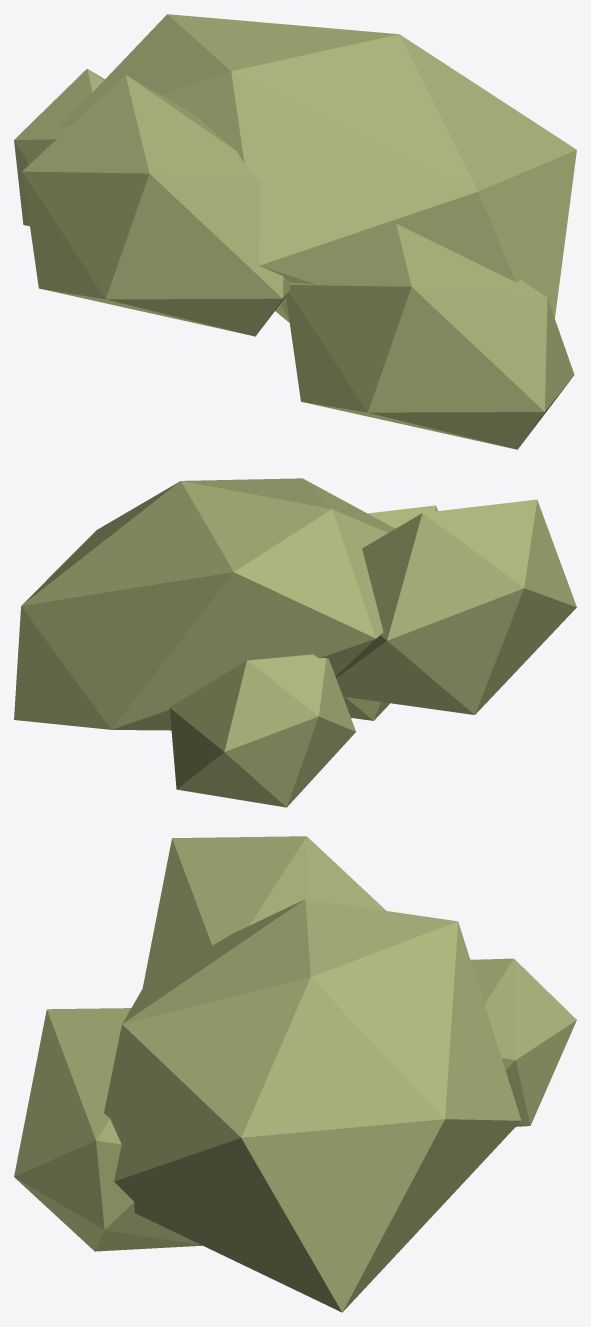
Rendered from Bush_1.fbx.
3 renders of one model, top to bottom at view 1: azimuth 30°, elevation 25°; view 2: azimuth 150°, elevation 25°; view 3: azimuth 270°, elevation 25°, orthographic. The views are drawn at different scales.
Visible parts, largest first — view 1: Bush21; view 2: Bush21; view 3: Bush21.
Boxes of the visible parts, <box> form: Bush21: <box>14,14,576,449</box>; Bush21: <box>14,478,576,807</box>; Bush21: <box>14,836,576,1312</box>.
Bounding box in the file's own units: 253 × 151 × 256.
